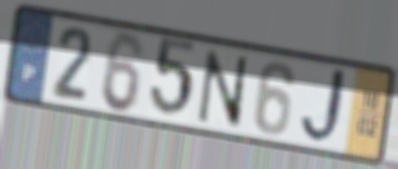2: (48, 24, 94, 106)
5: (147, 35, 200, 125)
6: (98, 28, 148, 117), (252, 59, 296, 137)
J: (298, 66, 354, 147)
N: (196, 47, 249, 132)
